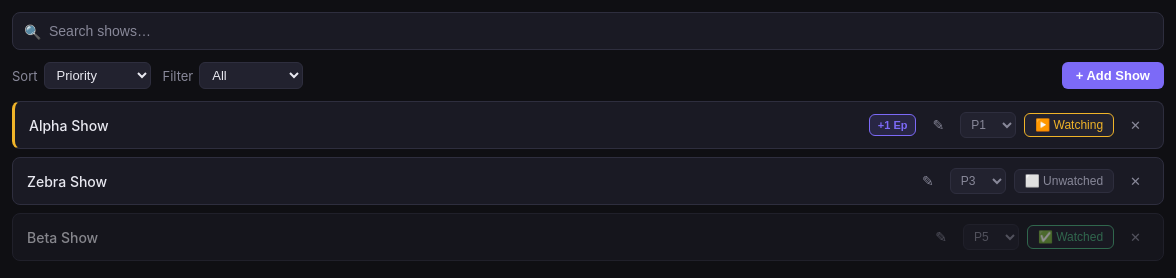
Test: ShowList › filters by watch status
Select "Watching" in the dropdown labelled "Filter": (251, 76) [199,62,303,89]
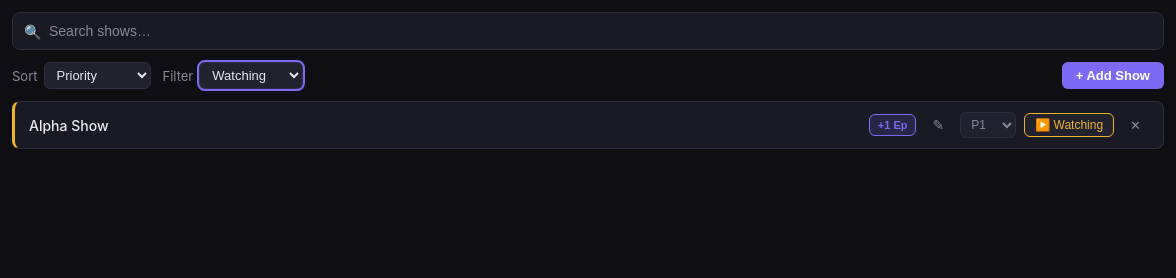
Check: the text "Alpha Show" is shown, box [29,116,108,134]
Check: the text "Zebra Show" is gone
Check: the text "Beta Show" is gone
